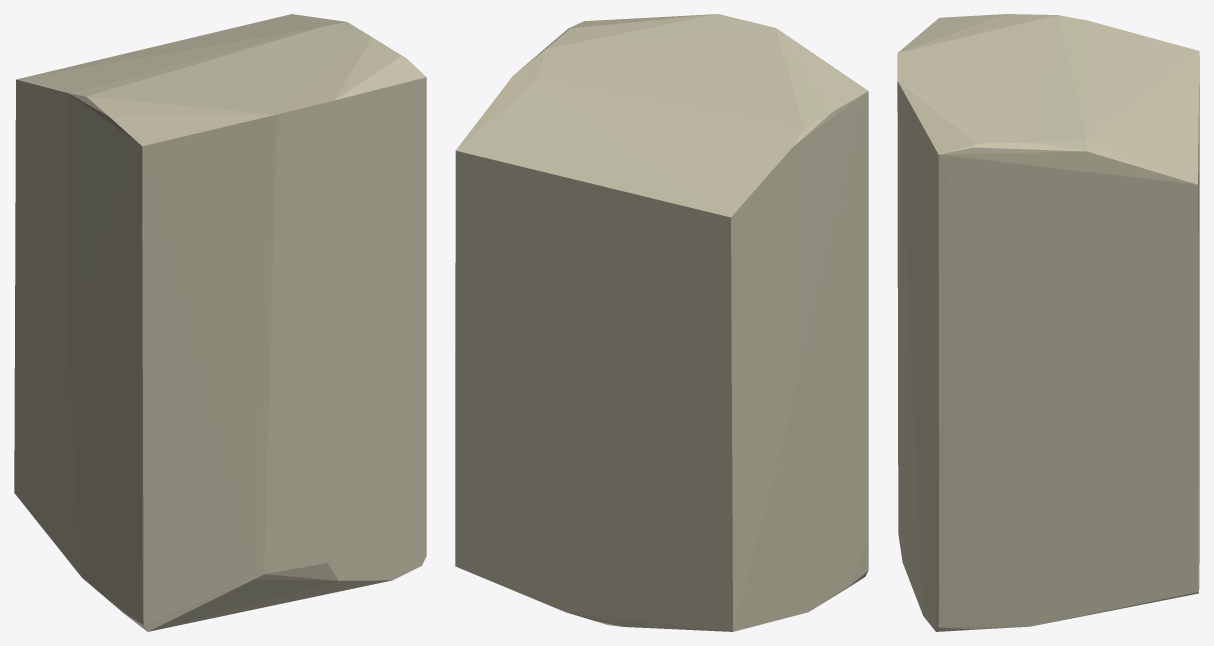
The model's file is serviceTool_waste_oil_tank_b01.glb.
3 renders of one model, left to right at view 1: azimuth 30°, elevation 25°; view 2: azimuth 150°, elevation 25°; view 3: azimuth 270°, elevation 25°, orthographic.
Parts seen in each view (by area): view 1: geometry_0; view 2: geometry_0; view 3: geometry_0.
Boxes of the visible parts, left/top/right/bottom form: geometry_0: left=14, top=14, right=426, bottom=631; geometry_0: left=455, top=14, right=868, bottom=631; geometry_0: left=897, top=14, right=1199, bottom=631.
Bounding box in the file's own units: 0.281 × 0.4786 × 0.2618.
